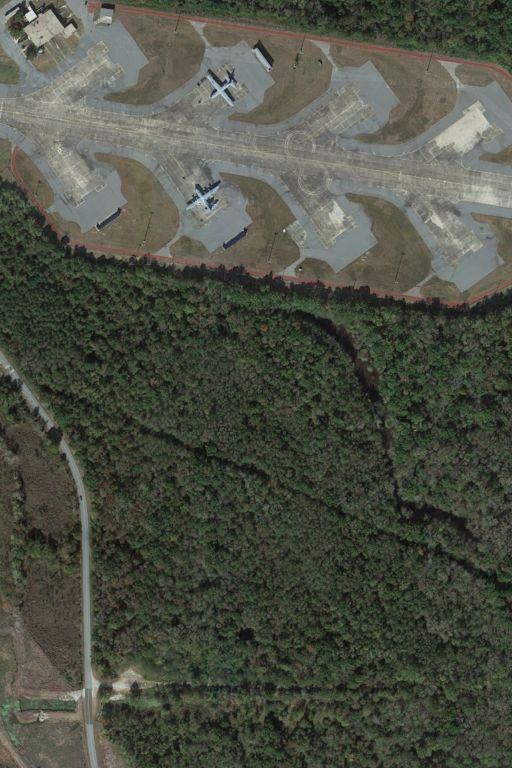C-130: (203, 68, 241, 108), (184, 180, 224, 218)
